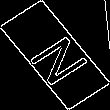N_NE: (19, 24, 91, 86)
